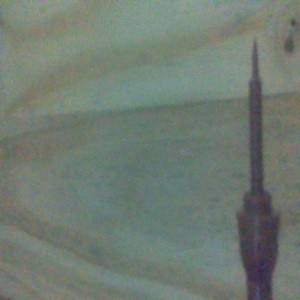solder: (235, 35, 281, 300)
